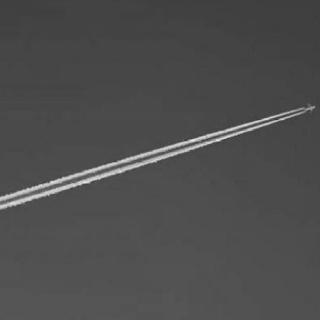Contrails: (0, 107, 305, 230)
